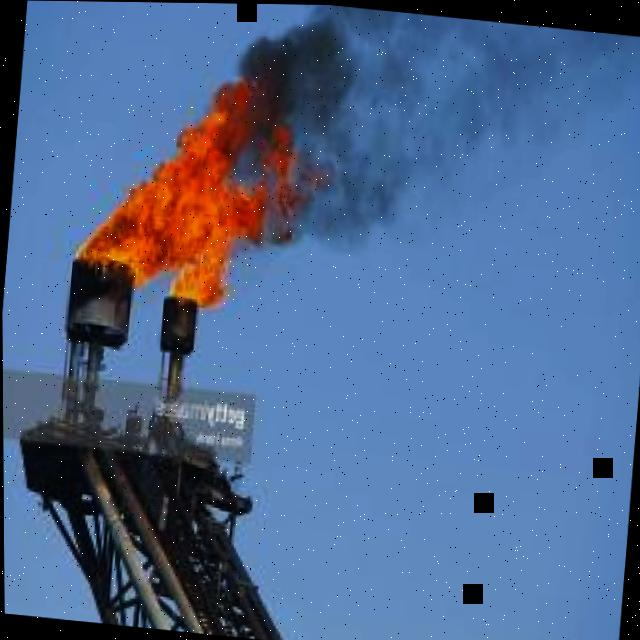fire: (75, 71, 267, 309), (260, 119, 298, 241)
smoke: (237, 4, 521, 253)
